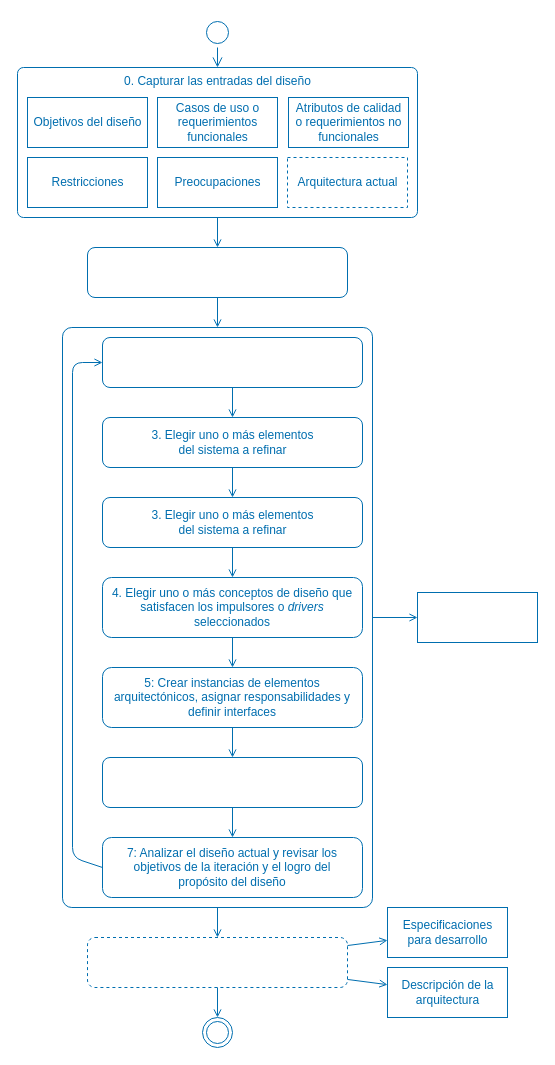
This 555x1065 diagram has some shape labels left out. The shapes that lost their labels are listed below. From the top down, each one's centre as x and y in pixels, then its label:
[217,272]: 1. Revisar las entradas del diseño
[232,362]: 2. Establecer el objetivo de la iteración seleccionando los impulsores o drivers
[477,617]: Registro de las decisiones de arquitectura
[232,782]: 6. Bosquejar vistas y crear registros de decisiones de diseño
[217,962]: 8. Documentar la arquitectura y comunicar a los interesados
